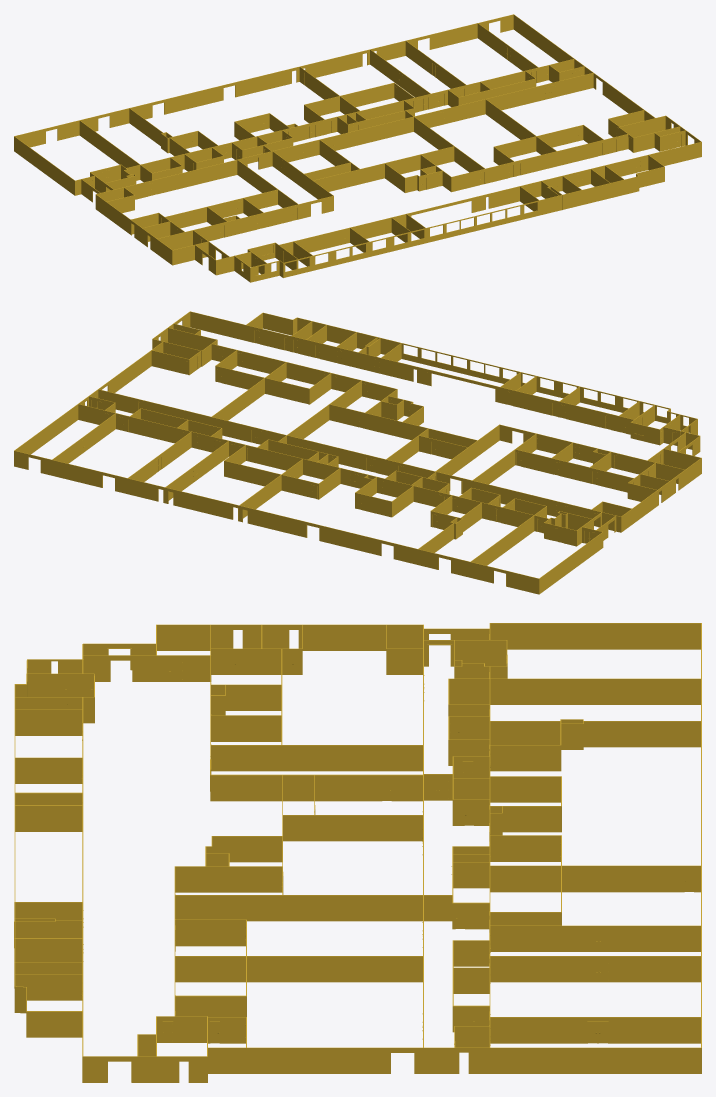
Rendered from Ctr.glb.
3 views of the same model, one above another, from view 1: azimuth 30°, elevation 25°; view 2: azimuth 150°, elevation 25°; view 3: azimuth 270°, elevation 25° (orthographic). The views are drawn at different scales.
Size of the model in its own units: 8.89 by 0.2499 by 5.96.
